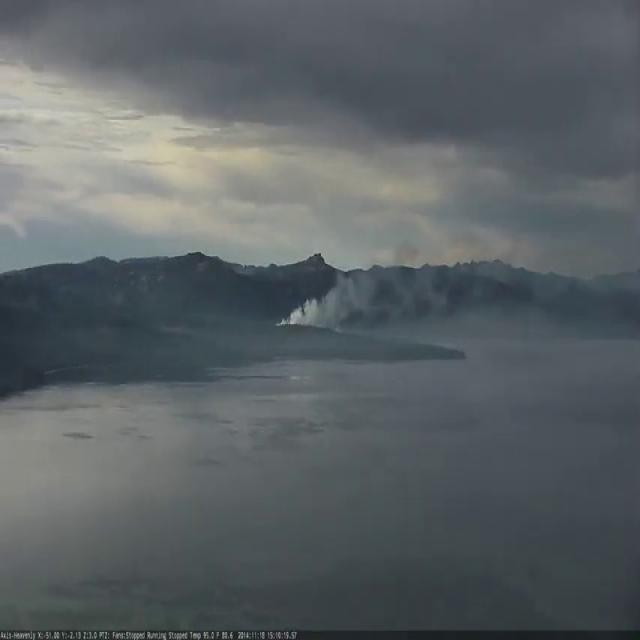smoke: (272, 221, 640, 344)
